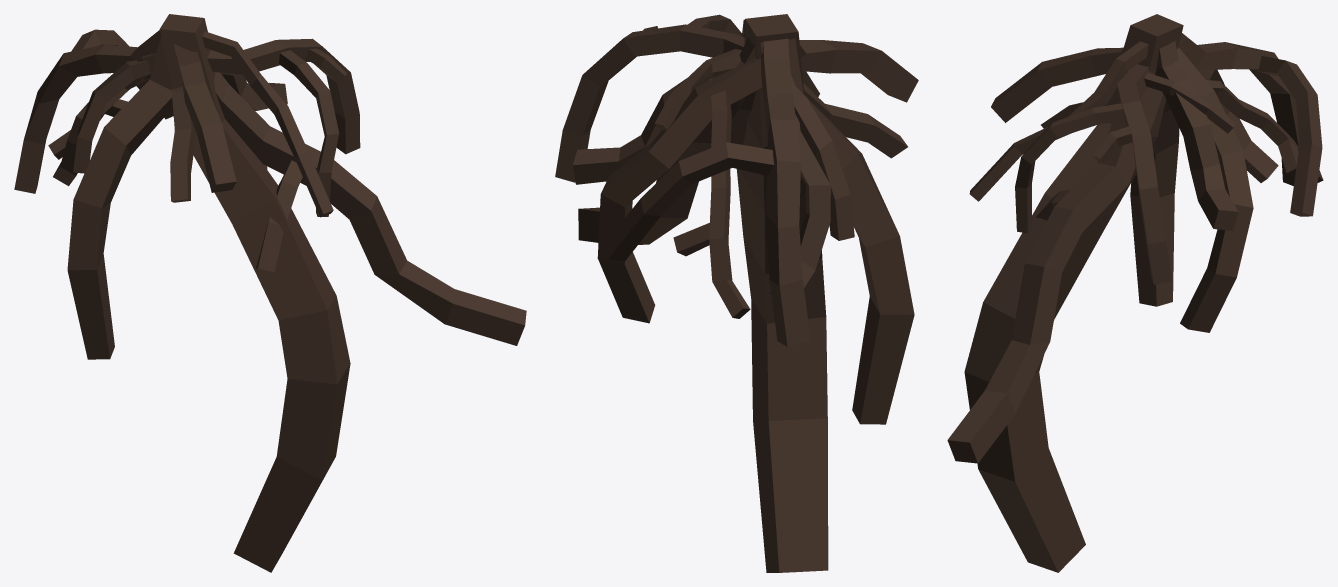
File: Roots.fbx
3 views of the same model, side by side, from view 1: azimuth 30°, elevation 25°; view 2: azimuth 150°, elevation 25°; view 3: azimuth 270°, elevation 25° (orthographic). The views are drawn at different scales.
Visible parts, largest first — view 1: Roots 5, Roots 4, Roots 6, Roots 2, Roots 1, Roots 3; view 2: Roots 5, Roots 6, Roots 2, Roots 1, Roots 4, Roots 3; view 3: Roots 5, Roots 4, Roots 6, Roots 2, Roots 3, Roots 1.
Part boxes in pixels (x1,y1,x2,y2): Roots 5: [159, 14, 350, 572]; Roots 4: [53, 16, 526, 345]; Roots 6: [67, 17, 267, 359]; Roots 2: [14, 18, 236, 193]; Roots 1: [73, 19, 360, 216]; Roots 3: [48, 19, 333, 217]; Roots 5: [736, 14, 828, 572]; Roots 6: [597, 16, 914, 424]; Roots 2: [605, 18, 918, 346]; Roots 1: [555, 14, 854, 240]; Roots 4: [578, 17, 907, 296]; Roots 3: [572, 19, 819, 318]; Roots 5: [964, 14, 1183, 572]; Roots 4: [947, 17, 1278, 463]; Roots 6: [1130, 16, 1253, 332]; Roots 2: [991, 33, 1322, 216]; Roots 3: [969, 41, 1323, 230]; Roots 1: [1015, 64, 1234, 284].
Bounding box in the file's own units: 2416 × 3175 × 2066.
